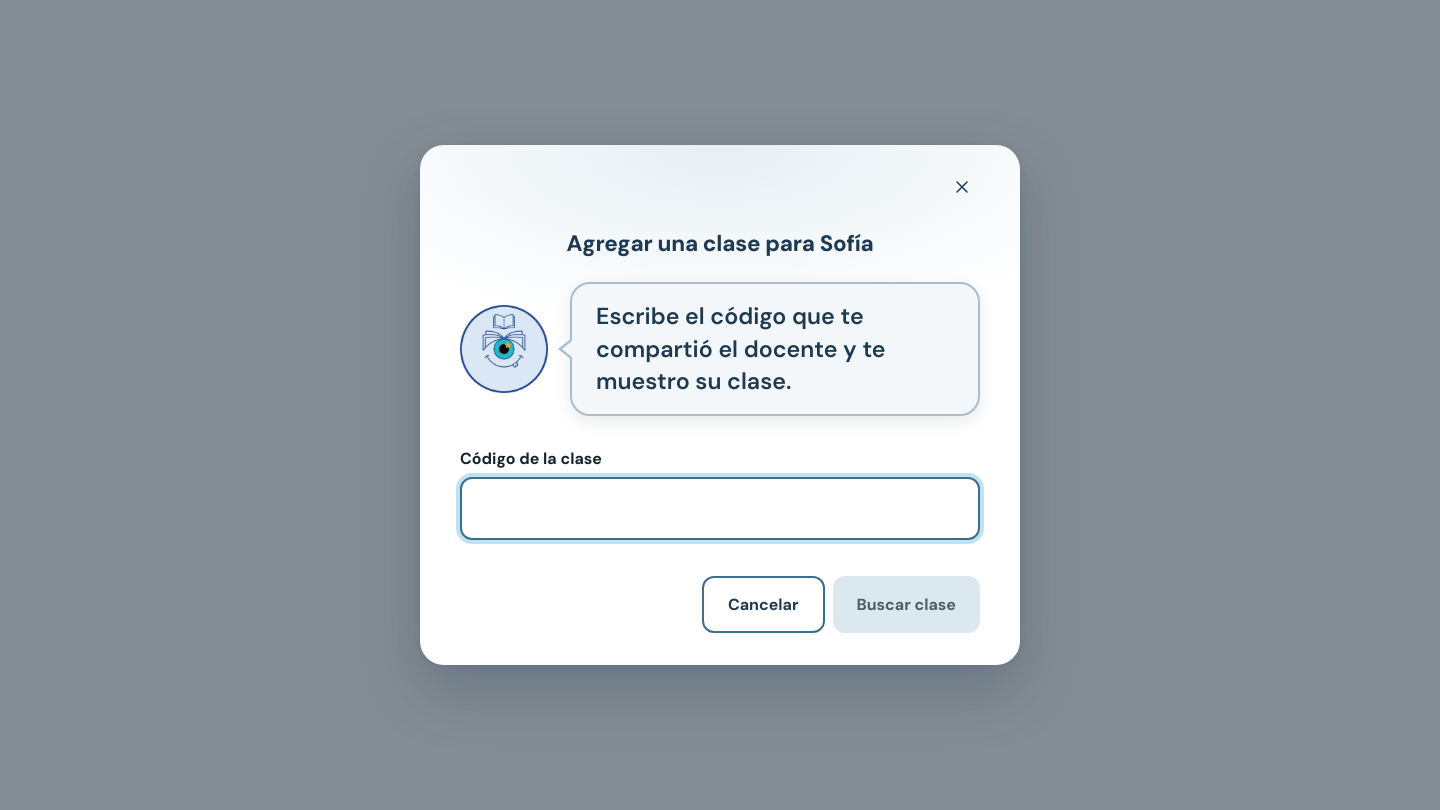
Test: AddClassDialog › says when no class has that code
Type "ZZ9#ZZ9%" into the field labelled "Código de la clase". click: (720, 508)
box: [460, 477, 980, 540]
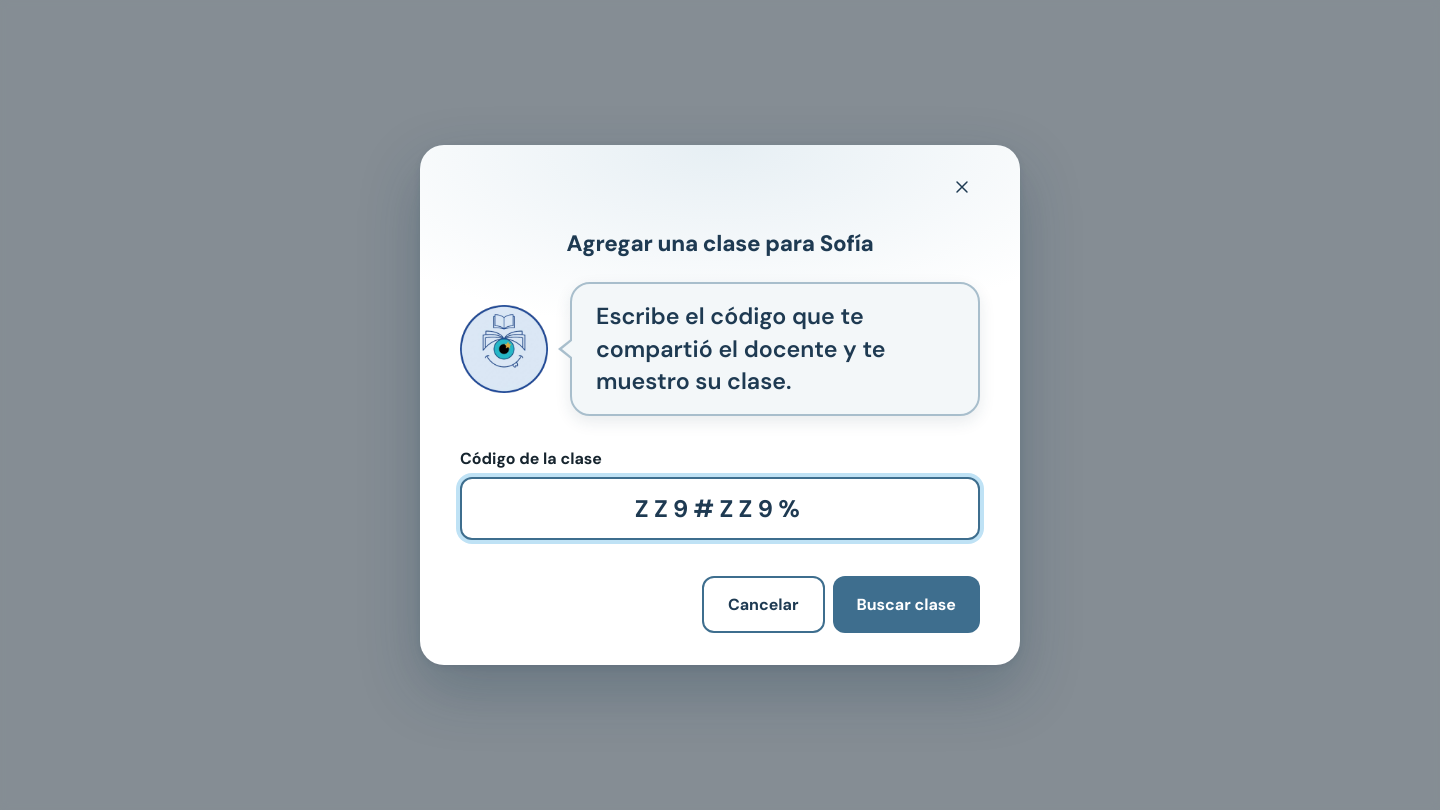
Click the button "Buscar clase". click: (906, 604)
box: [832, 576, 980, 633]
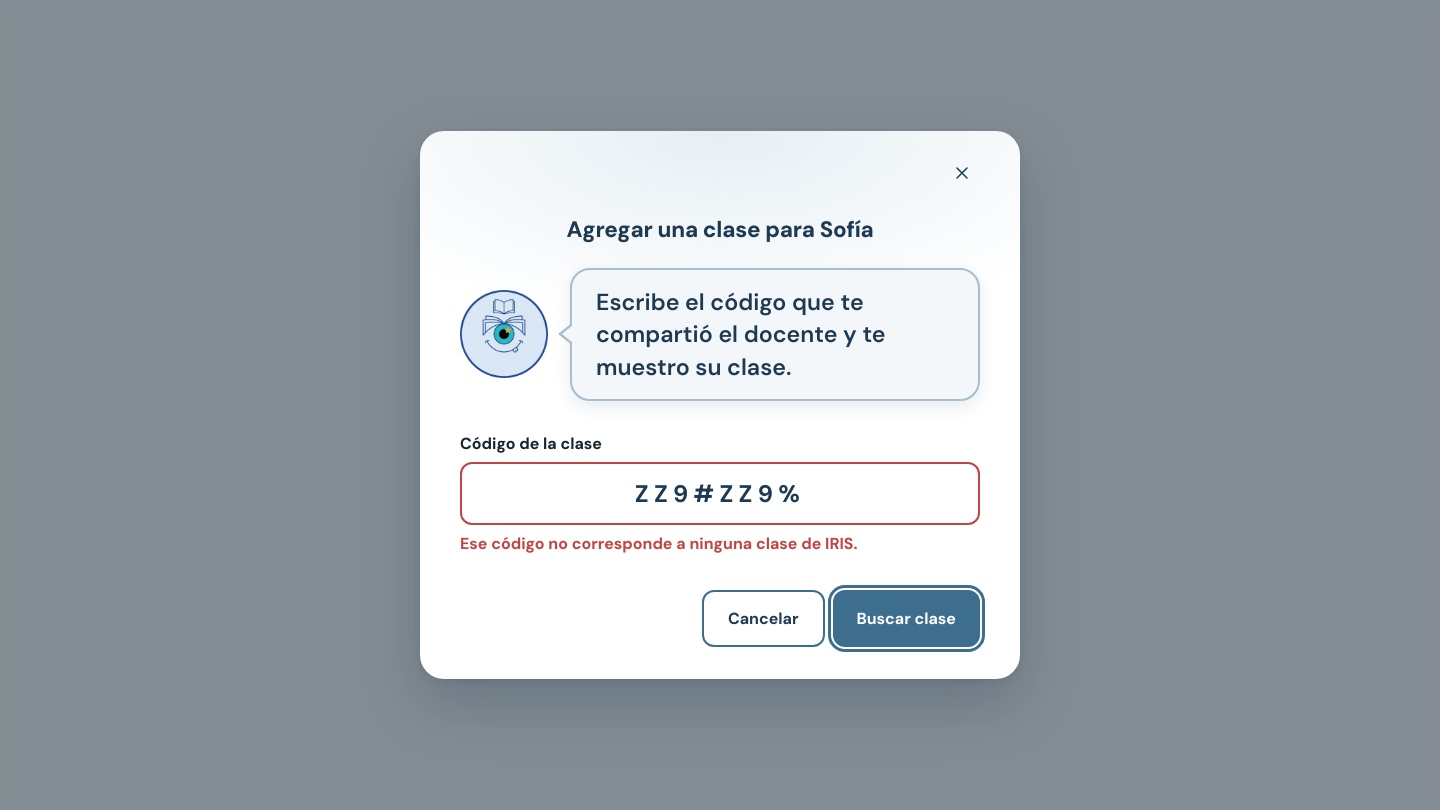
Expected: the message reads "Ese código no corresponde a ninguna clase de IRIS.", [460, 533, 858, 554]
